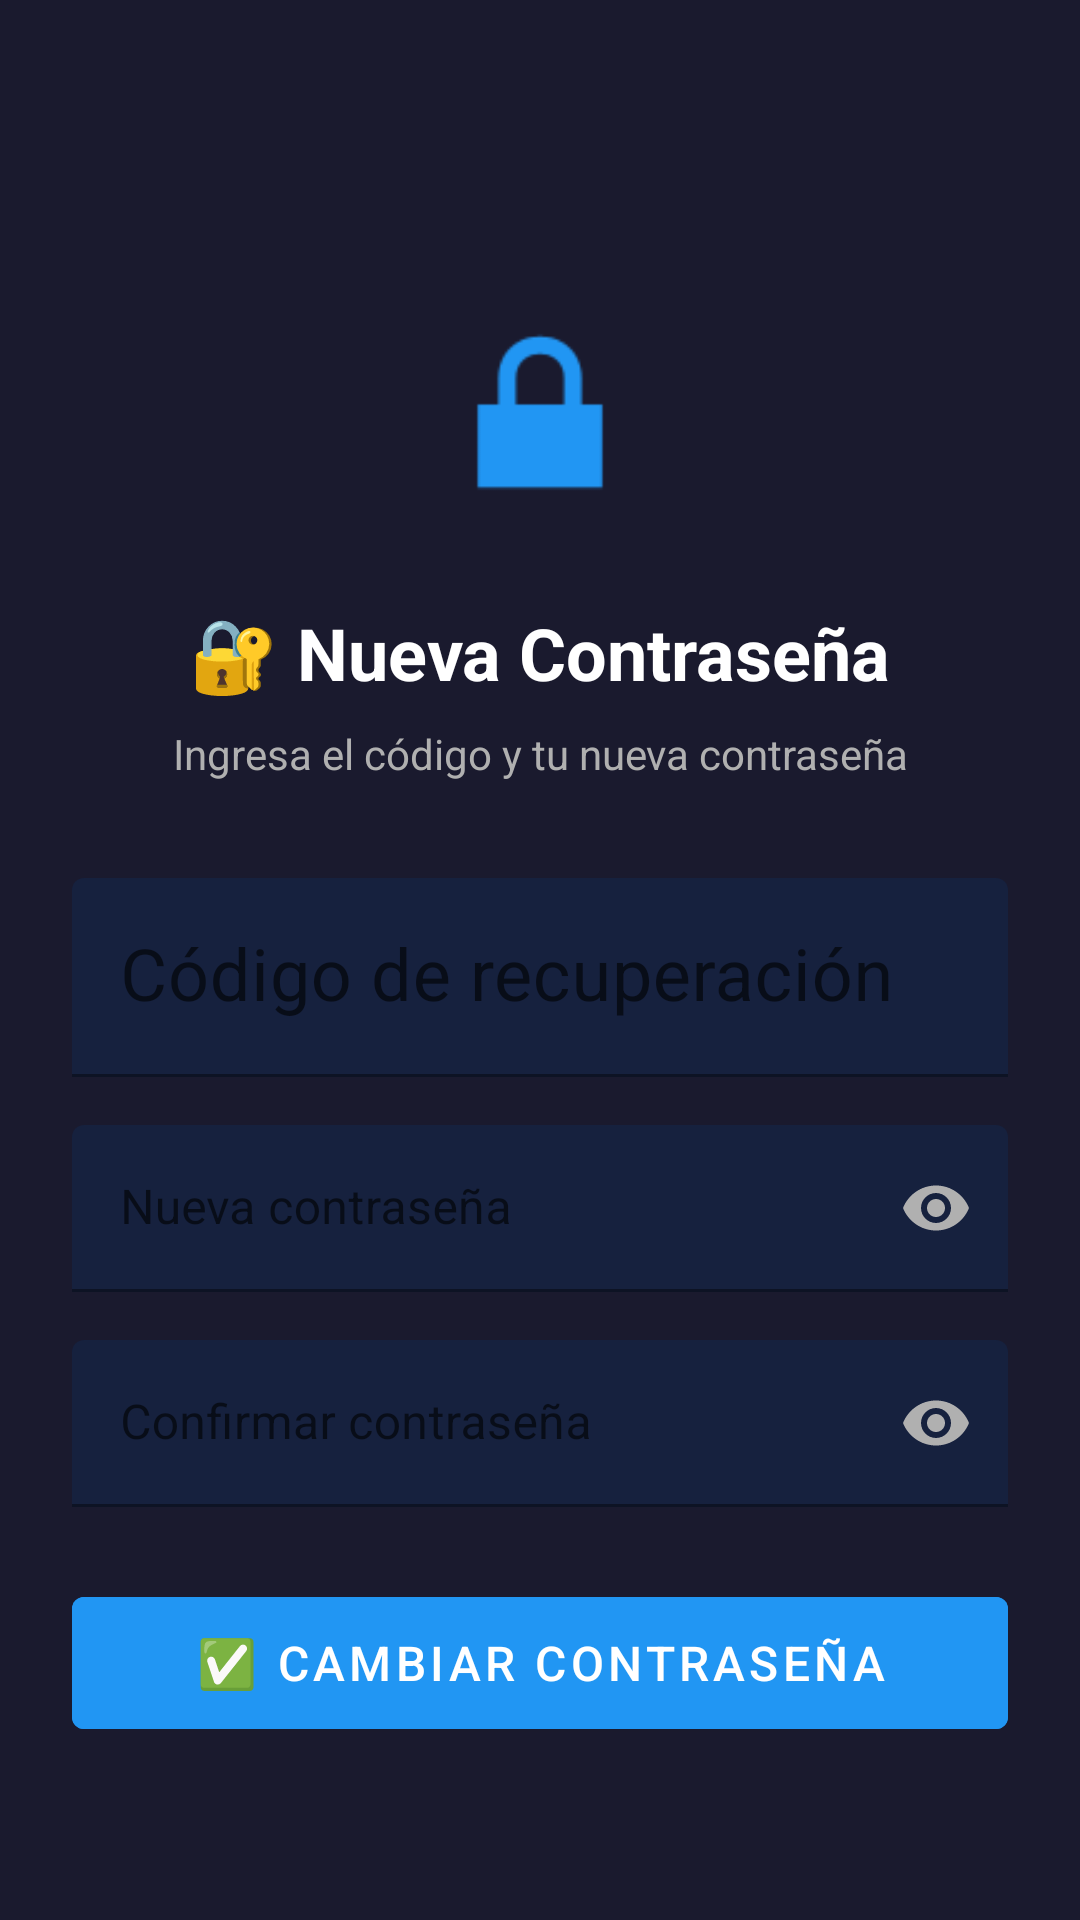

Locate icon controls on the screen. Image size 1080px x 1920px, boxes as [x1=x1, y1=y1, x2=x2, y2=y2].
lock: [x1=477, y1=335, x2=603, y2=489]
